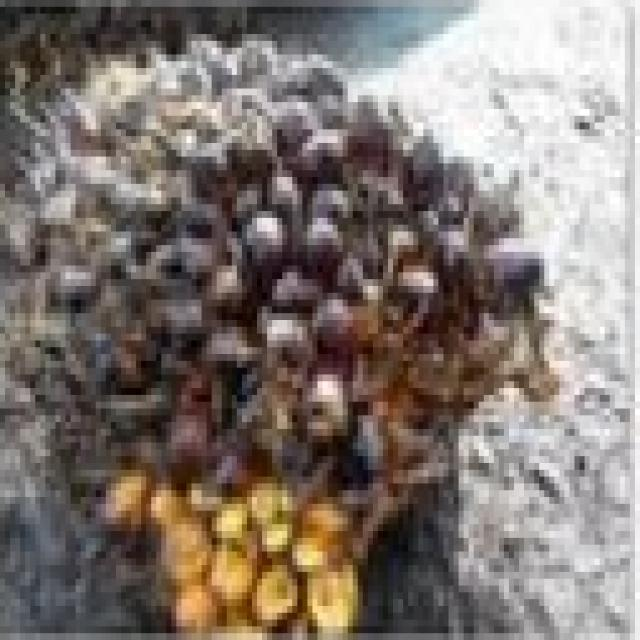FFB: (27, 49, 562, 640)
